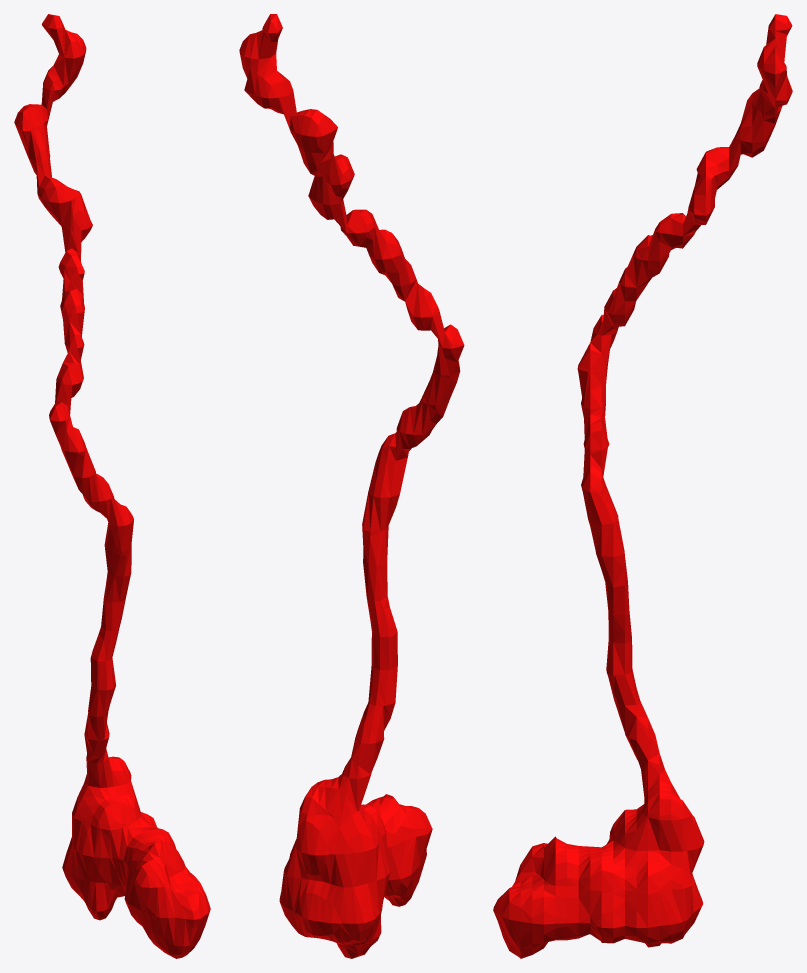
Rendered from cdaR_coarse.dae.
3 views of the same model, side by side, from view 1: azimuth 30°, elevation 25°; view 2: azimuth 150°, elevation 25°; view 3: azimuth 270°, elevation 25° (orthographic). The views are drawn at different scales.
Parts seen in each view (by area): view 1: cdaR; view 2: cdaR; view 3: cdaR.
Boxes of the visible parts, left/top/right/bottom form: cdaR: left=14, top=14, right=210, bottom=958; cdaR: left=239, top=14, right=464, bottom=958; cdaR: left=493, top=14, right=792, bottom=958.
Bounding box in the file's own units: 58.18 × 353 × 102.
